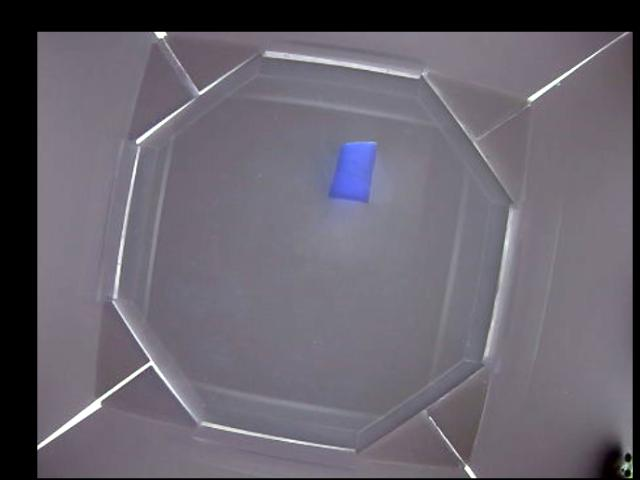Potato: (331, 140, 377, 202)
